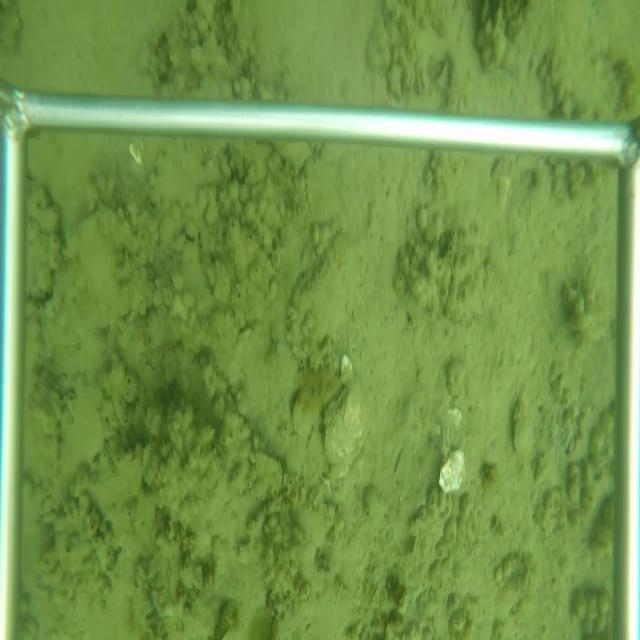Oyster-Closed: (317, 371, 363, 472)
Oyster-Indeterminate: (282, 232, 366, 373), (67, 199, 145, 331), (511, 389, 535, 459)
